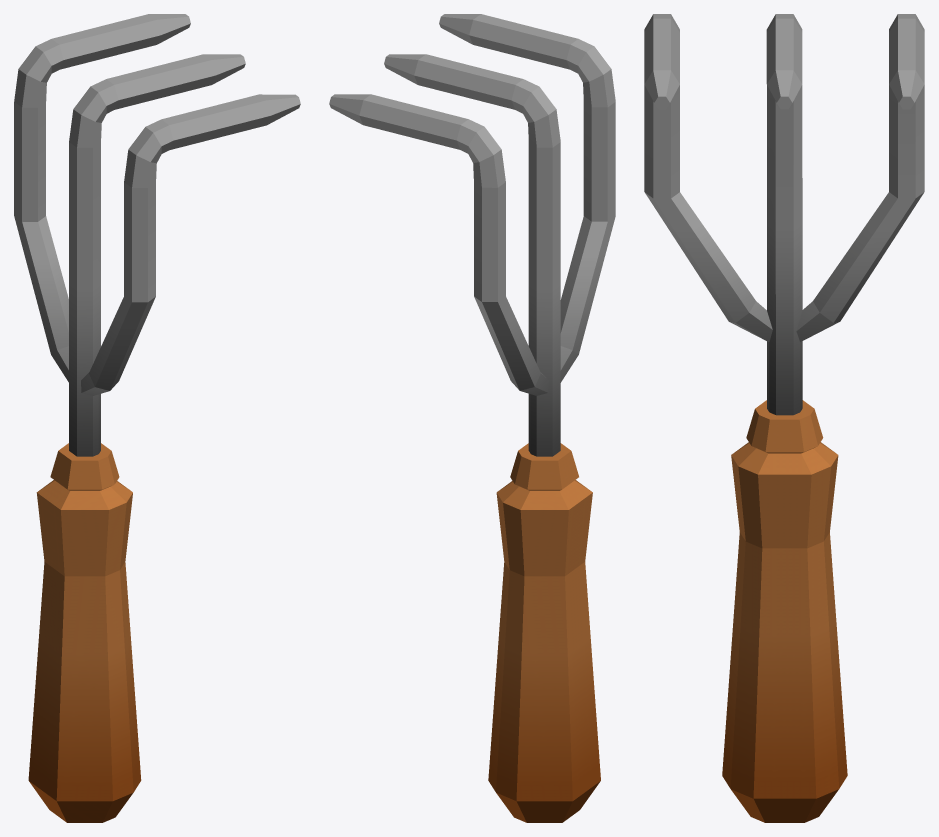
File: garden_fork.fbx
3 renders of one model, left to right at view 1: azimuth 30°, elevation 25°; view 2: azimuth 150°, elevation 25°; view 3: azimuth 270°, elevation 25°, orthographic. The views are drawn at different scales.
Visible parts, largest first — view 1: garden_fork; view 2: garden_fork; view 3: garden_fork.
Boxes of the visible parts, x1,y1,x2,y2 form: garden_fork: (14,14,300,822); garden_fork: (329,14,615,822); garden_fork: (644,14,924,822).
Size of the model in its own units: 10.24 by 35.43 by 11.18.
